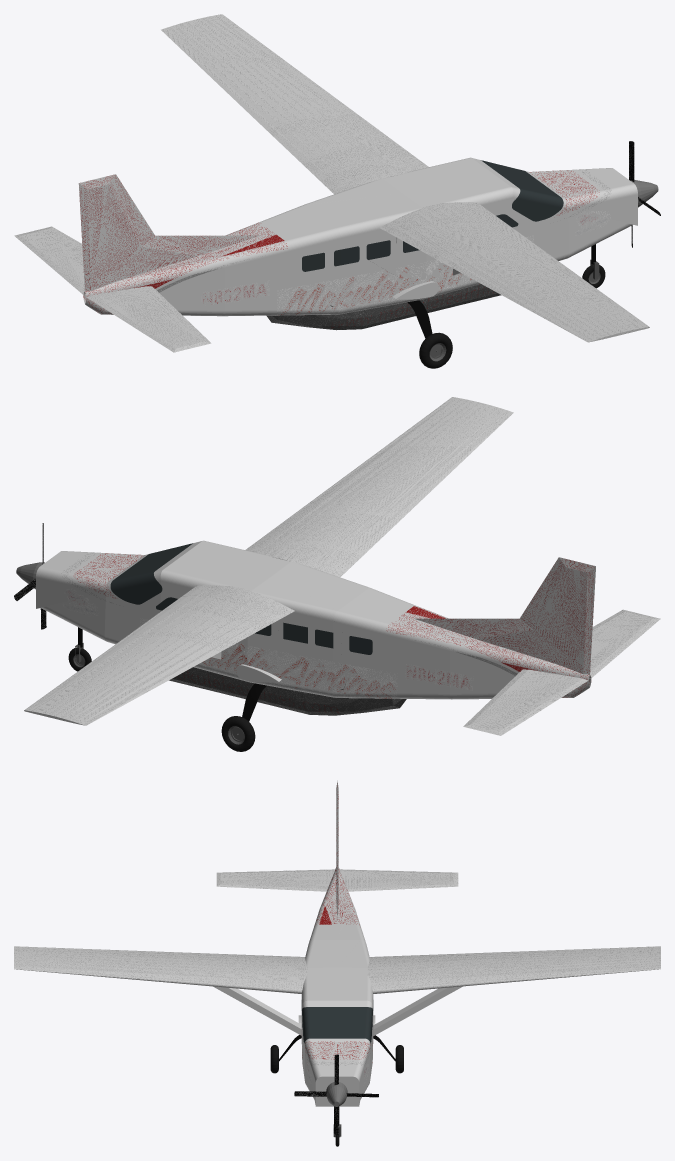
3 renders of one model, top to bottom at view 1: azimuth 30°, elevation 25°; view 2: azimuth 150°, elevation 25°; view 3: azimuth 270°, elevation 25°, orthographic. The views are drawn at different scales.
Visible parts, largest first — view 1: mesh33_mesh33-geometry, mesh16.001_mesh16-geometry, mesh15.001_mesh15-geometry, mesh21.001_mesh21-geometry, mesh20.001_mesh20-geometry, mesh3.001_mesh3-geometry, mesh29.002_mesh29-geometry, mesh30.002_mesh30-geometry; view 2: mesh33_mesh33-geometry, mesh15.001_mesh15-geometry, mesh16.001_mesh16-geometry, mesh32.001_mesh32-geometry, mesh20.001_mesh20-geometry, mesh21.001_mesh21-geometry, mesh3.001_mesh3-geometry, mesh26.002_mesh26-geometry, mesh30.001_mesh30-geometry; view 3: mesh33_mesh33-geometry, mesh16.001_mesh16-geometry, mesh15.001_mesh15-geometry, mesh3.001_mesh3-geometry, mesh21.001_mesh21-geometry, mesh20.001_mesh20-geometry, mesh18.001_mesh18-geometry, mesh17.001_mesh17-geometry, mesh2.001_mesh2-geometry.
Part boxes in pixels (left/top/right/bottom): mesh33_mesh33-geometry: left=78, top=157, right=637, bottom=330; mesh16.001_mesh16-geometry: left=161, top=14, right=428, bottom=194; mesh15.001_mesh15-geometry: left=379, top=202, right=649, bottom=342; mesh21.001_mesh21-geometry: left=86, top=286, right=211, bottom=352; mesh20.001_mesh20-geometry: left=14, top=226, right=85, bottom=295; mesh3.001_mesh3-geometry: left=481, top=160, right=563, bottom=221; mesh29.002_mesh29-geometry: left=419, top=332, right=452, bottom=368; mesh30.002_mesh30-geometry: left=393, top=281, right=438, bottom=299; mesh33_mesh33-geometry: left=36, top=540, right=595, bottom=715; mesh15.001_mesh15-geometry: left=245, top=397, right=513, bottom=577; mesh16.001_mesh16-geometry: left=24, top=585, right=294, bottom=725; mesh32.001_mesh32-geometry: left=278, top=613, right=345, bottom=692; mesh20.001_mesh20-geometry: left=463, top=669, right=587, bottom=735; mesh21.001_mesh21-geometry: left=589, top=609, right=660, bottom=678; mesh3.001_mesh3-geometry: left=110, top=543, right=192, bottom=604; mesh26.002_mesh26-geometry: left=221, top=716, right=255, bottom=751; mesh30.001_mesh30-geometry: left=236, top=664, right=281, bottom=682; mesh33_mesh33-geometry: left=301, top=780, right=373, bottom=1106; mesh16.001_mesh16-geometry: left=367, top=946, right=660, bottom=993; mesh15.001_mesh15-geometry: left=14, top=946, right=307, bottom=993; mesh3.001_mesh3-geometry: left=302, top=1007, right=372, bottom=1043; mesh21.001_mesh21-geometry: left=216, top=869, right=335, bottom=891; mesh20.001_mesh20-geometry: left=339, top=869, right=458, bottom=891; mesh18.001_mesh18-geometry: left=373, top=986, right=462, bottom=1035; mesh17.001_mesh17-geometry: left=213, top=986, right=301, bottom=1035; mesh2.001_mesh2-geometry: left=294, top=1054, right=378, bottom=1134.
Bounding box in the file's own units: 0.5989 × 0.2295 × 0.7672.
16 materials, 2 textured.
